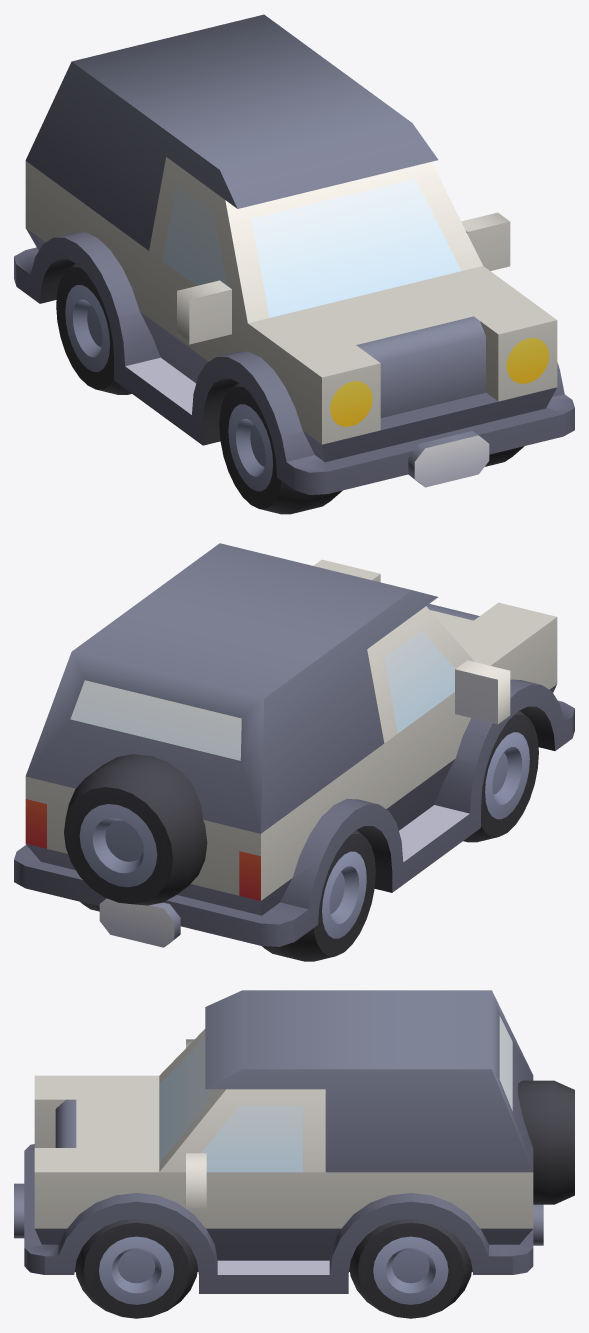
The model's file is scross.glb.
3 renders of one model, top to bottom at view 1: azimuth 30°, elevation 25°; view 2: azimuth 150°, elevation 25°; view 3: azimuth 270°, elevation 25°, orthographic. The views are drawn at different scales.
Parts seen in each view (by area): view 1: body, wheel-front-right, wheel-back-right; view 2: body, wheel-back, wheel-back-right, wheel-front-right; view 3: body, wheel-back-left, wheel-front-left, wheel-back.
Boxes of the visible parts, x1,y1,x2,y2 form: body: (14,14,574,494); wheel-front-right: (219,382,342,514); wheel-back-right: (56,263,131,394); body: (14,543,574,947); wheel-back: (64,754,207,905); wheel-back-right: (262,830,375,961); wheel-front-right: (463,710,538,842); body: (14,990,543,1293); wheel-back-left: (349,1218,472,1318); wheel-front-left: (75,1218,197,1318); wheel-back: (517,1080,574,1204).
Bounding box in the file's own units: 1.5 × 1.3 × 2.7.
Materials: 1 (1 with a texture image).
